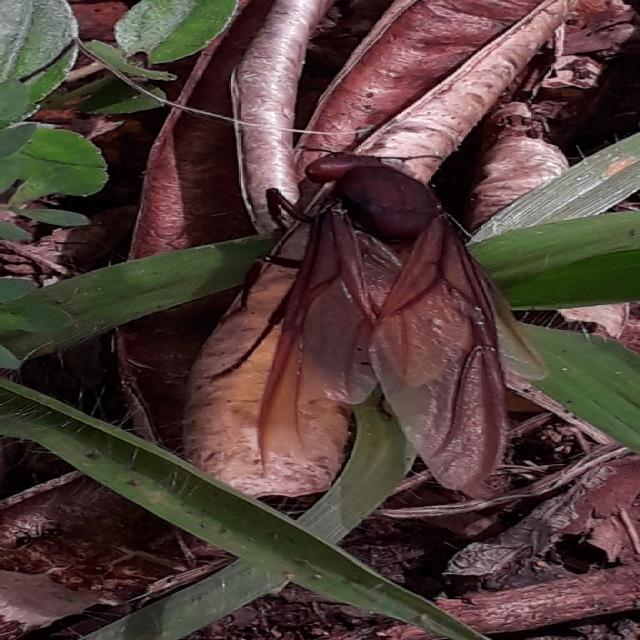Alive-Female-Alate: (207, 145, 550, 489)
